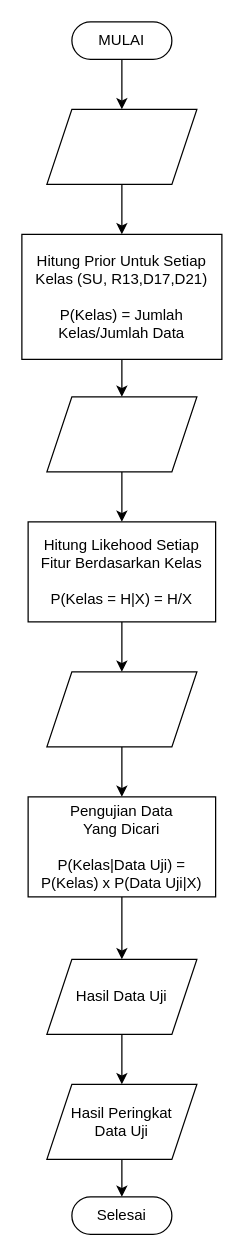
The diagram is 244 pixels wide and 1256 high, and some of its shapes have lost their labels. Here are the shapes that lost their labels. From the top down, the box of each, then its label:
(46, 108, 197, 184): Masukan Dataset Konten
(46, 396, 197, 472): Hasil Prior Setiap Kelas 0,25
(46, 671, 197, 747): Hasil Likehood Setiap Kelas
